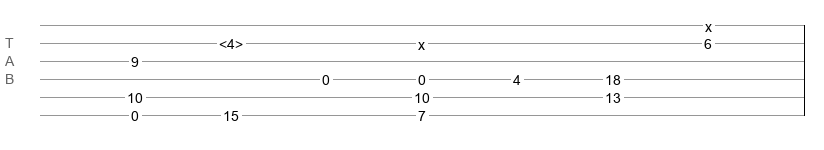0: (131, 108, 139, 118), (322, 72, 330, 82), (418, 72, 426, 82)
10: (127, 90, 143, 100), (414, 90, 430, 100)
13: (605, 90, 621, 100)
15: (223, 108, 239, 118)
18: (605, 72, 621, 82)
4: (513, 72, 521, 82)
6: (704, 36, 712, 46)
7: (418, 108, 426, 118)
9: (131, 54, 139, 64)
harmonic: (219, 36, 243, 46)
x: (418, 37, 425, 45), (705, 19, 712, 27)
